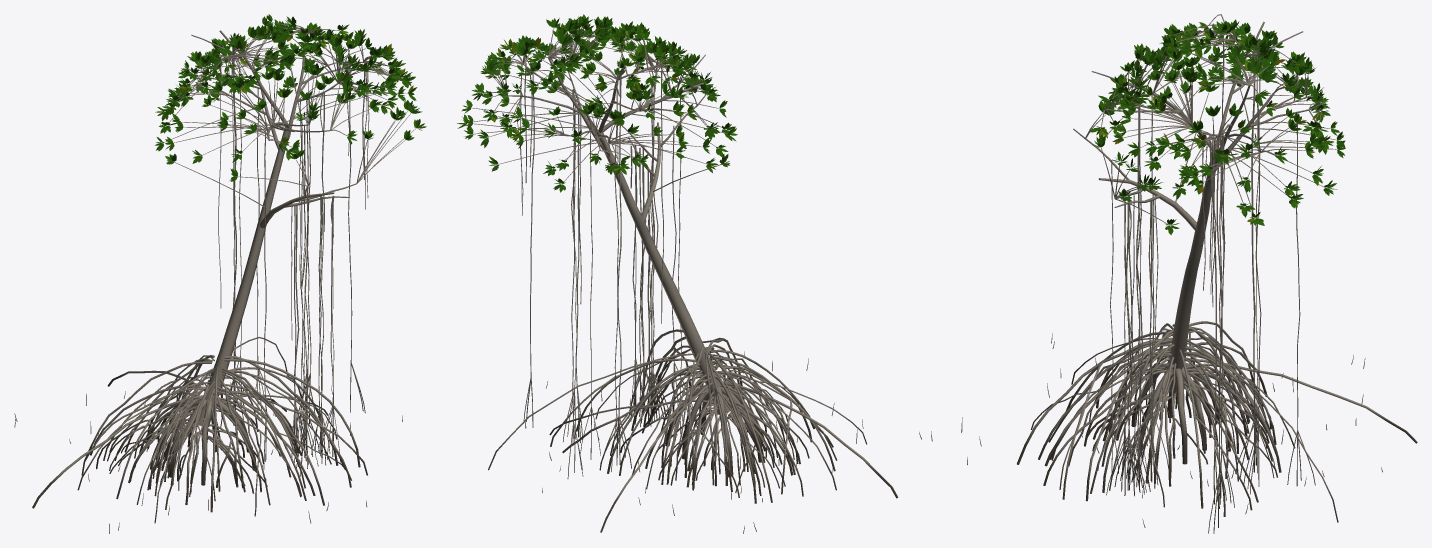
Rendered from RedMangrove_06_TallLeaning.fbx.
3 views of the same model, side by side, from view 1: azimuth 30°, elevation 25°; view 2: azimuth 150°, elevation 25°; view 3: azimuth 270°, elevation 25° (orthographic). The views are drawn at different scales.
Visible parts, largest first — view 1: RedMangrove_06_TallLeaning_LOD0; view 2: RedMangrove_06_TallLeaning_LOD0; view 3: RedMangrove_06_TallLeaning_LOD0.
Boxes of the visible parts, <box> form: RedMangrove_06_TallLeaning_LOD0: <box>14,14,426,533</box>; RedMangrove_06_TallLeaning_LOD0: <box>457,14,932,533</box>; RedMangrove_06_TallLeaning_LOD0: <box>961,14,1417,533</box>.
Size of what is drawn, in the model's own units: 8.71 by 8.61 by 7.74.
